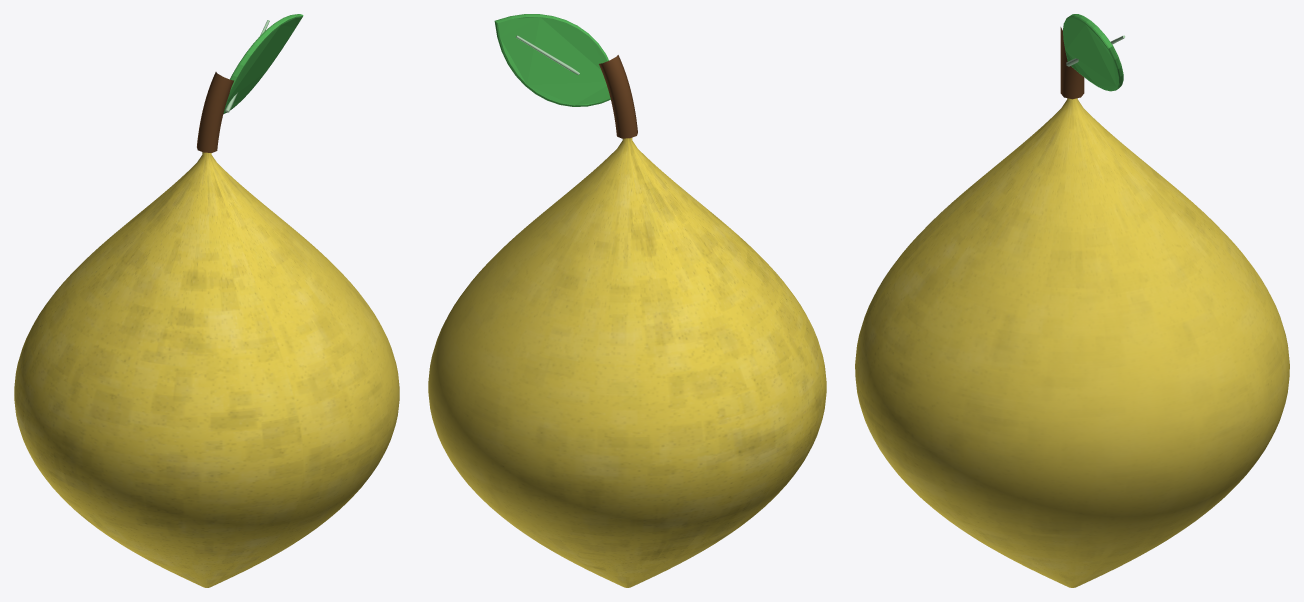
Rendered from quince.glb.
3 views of the same model, side by side, from view 1: azimuth 30°, elevation 25°; view 2: azimuth 150°, elevation 25°; view 3: azimuth 270°, elevation 25° (orthographic). The views are drawn at different scales.
Size of the model in its own units: 0.1047 by 0.1616 by 0.1047.
4 materials, 1 textured.
